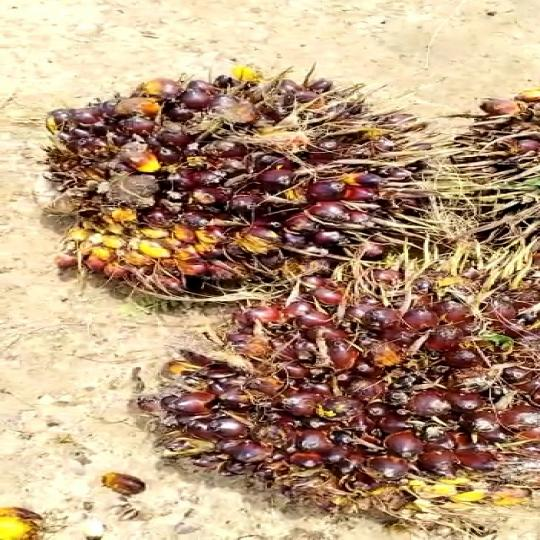masak: (146, 236, 540, 523), (44, 73, 488, 312)
